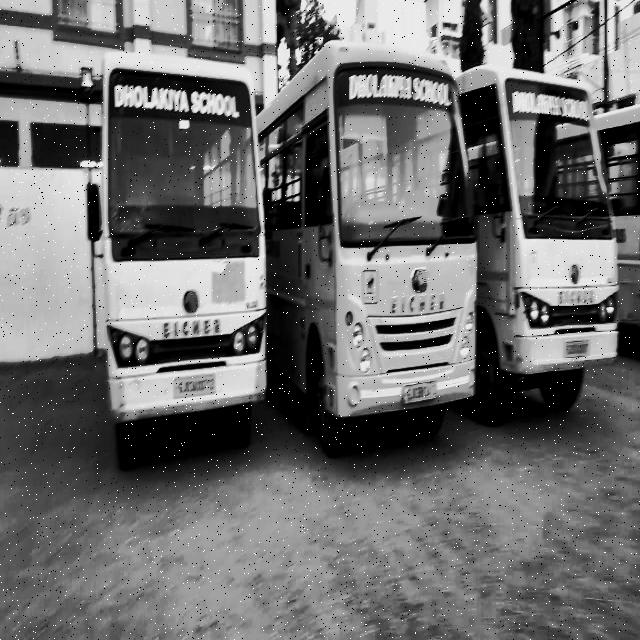Bus: (80, 36, 283, 484), (276, 34, 481, 467), (481, 52, 622, 420)
